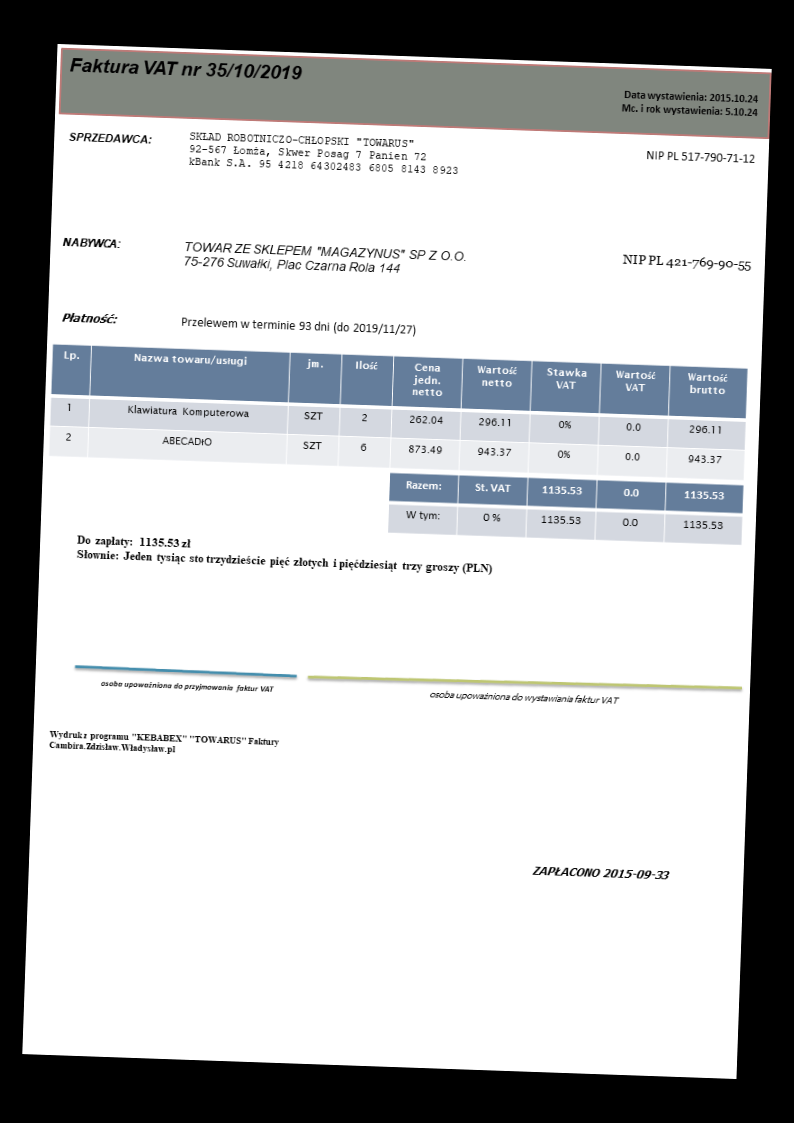Table: (48, 343, 749, 481), (386, 471, 746, 546)
TextBox: (73, 531, 497, 578), (186, 129, 460, 177), (181, 238, 472, 279), (45, 727, 283, 760), (67, 54, 305, 83), (179, 314, 416, 337), (619, 88, 761, 119), (427, 687, 623, 707), (621, 251, 753, 274), (98, 678, 276, 695), (530, 862, 671, 882), (643, 146, 757, 167), (67, 129, 154, 147), (60, 234, 121, 252), (60, 310, 119, 326)
